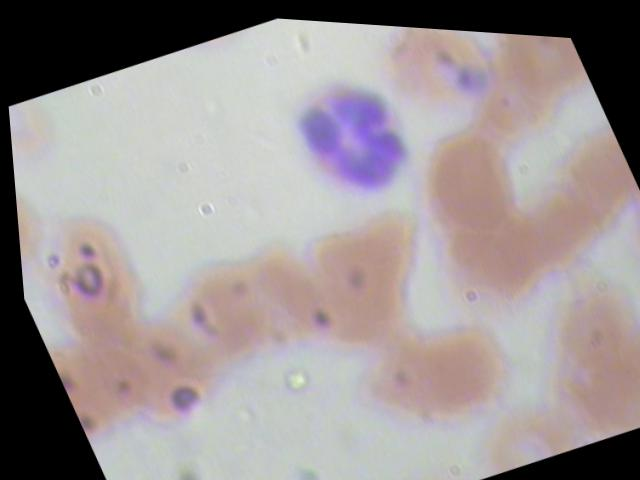Red Blood Cells: (336, 295, 522, 450), (17, 194, 159, 352), (398, 116, 530, 245)
White Blood Cells: (267, 50, 437, 215)
